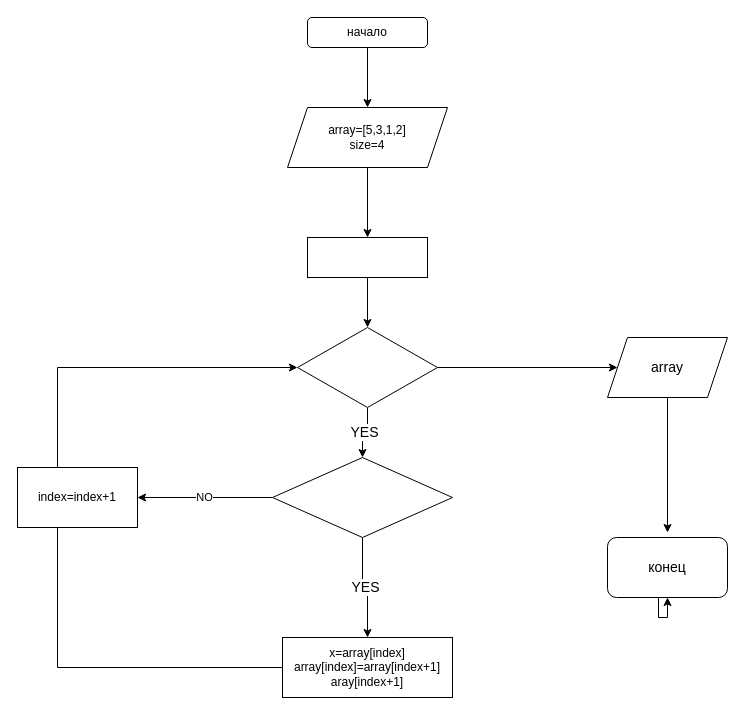
This 745x715 diagram has some shape labels left out. Here are the shapes that lost their labels. From the top down, the centre of each, then its label:
At point (367, 257): "indaex=0".
At point (367, 367): "index <size-1".
At point (362, 497): "array[index] >array[index+1]".
